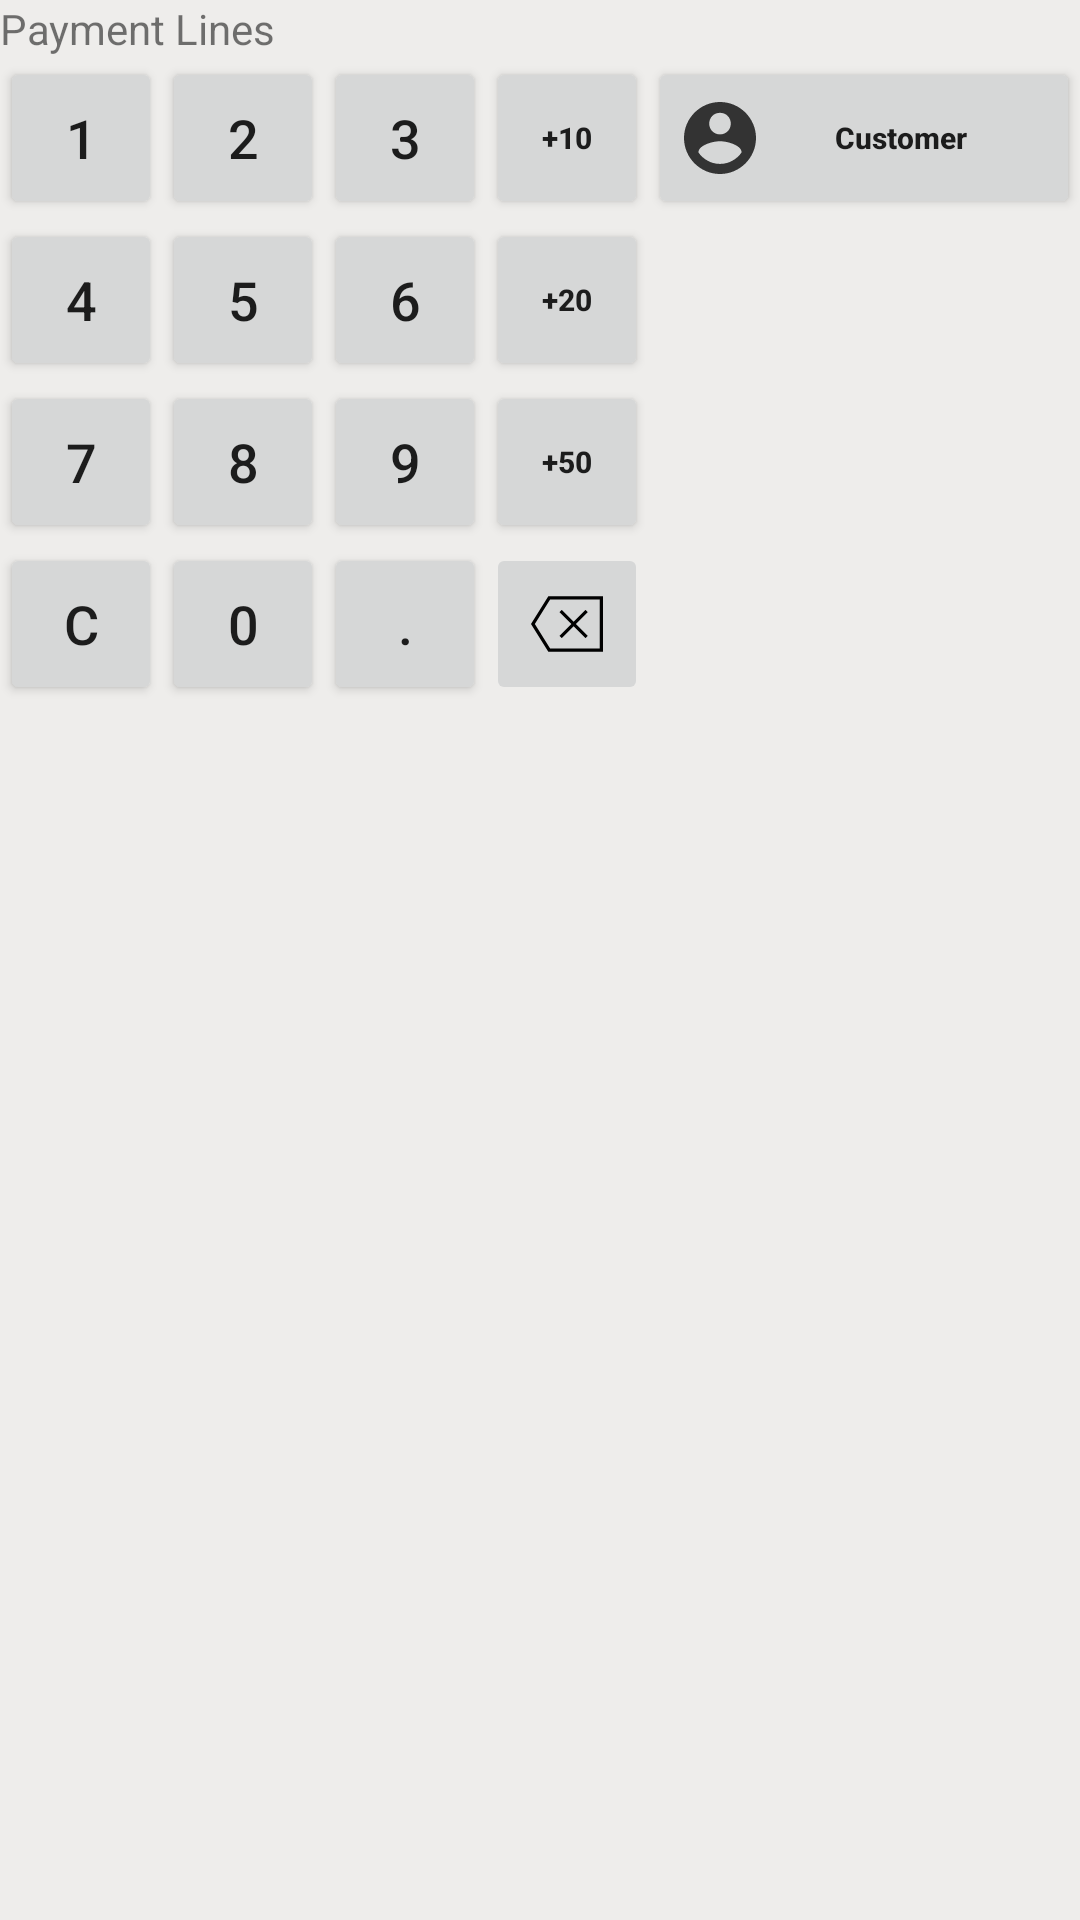

Icons on this 1080*1920 Android screen, each with its box as bbox=(x1, y1, x2, y2):
backspace: bbox=(498, 561, 636, 687)
